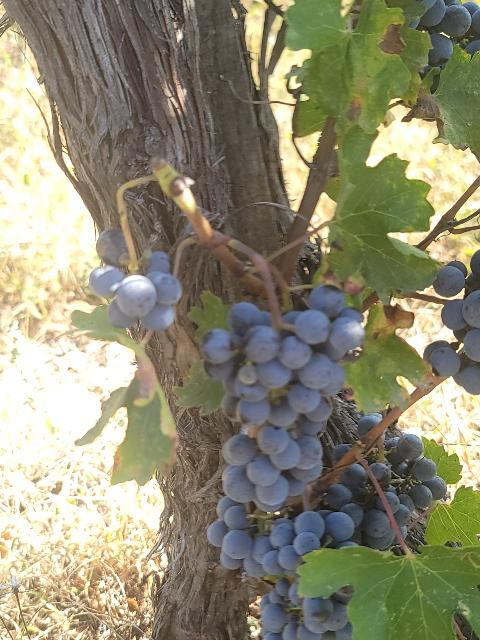grapes: (200, 285, 365, 510), (208, 498, 355, 640), (325, 432, 448, 550), (89, 228, 181, 331)
